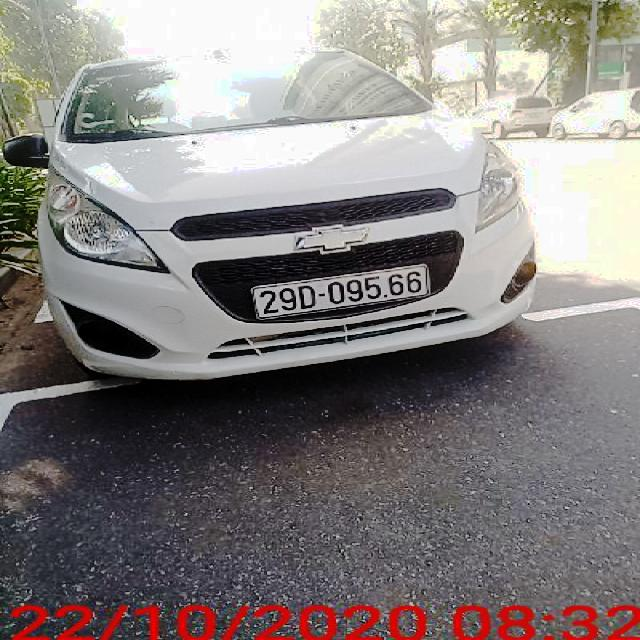license_plate: (256, 266, 429, 318)
